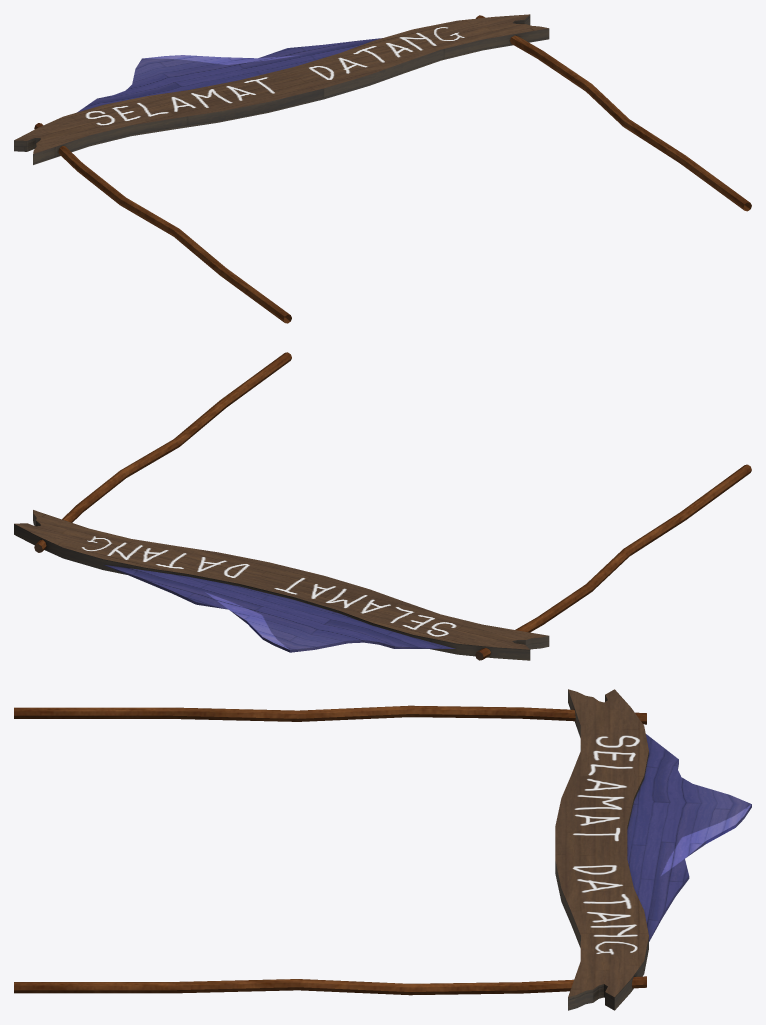
Rendered from papan.fbx.
3 views of the same model, one above another, from view 1: azimuth 30°, elevation 25°; view 2: azimuth 150°, elevation 25°; view 3: azimuth 270°, elevation 25° (orthographic). The views are drawn at different scales.
Visible parts, largest first — view 1: Cube; view 2: Cube; view 3: Cube.
Boxes of the visible parts, left/top/right/bottom form: Cube: left=14, top=14, right=751, bottom=323; Cube: left=14, top=352, right=751, bottom=660; Cube: left=14, top=689, right=751, bottom=1010.
Size of the model in its own units: 1003 by 20.32 by 1016.
1 material, 1 textured.
